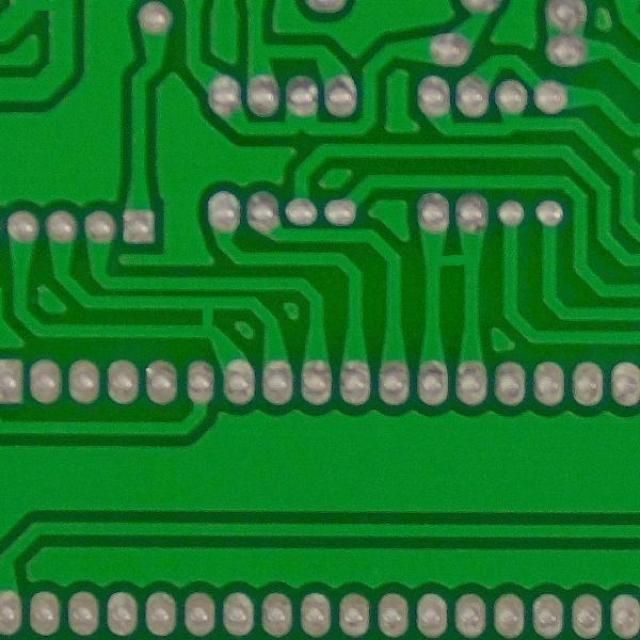Short_Circuit: (416, 240, 492, 280), (184, 290, 230, 347), (0, 0, 83, 25)
